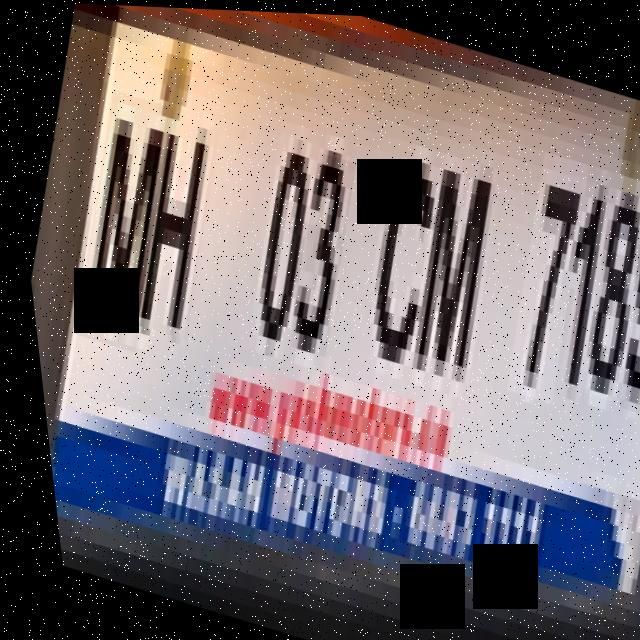0: (220, 127, 335, 358)
1: (527, 183, 625, 404)
3: (264, 148, 369, 356)
7: (477, 144, 607, 401)
8: (557, 180, 640, 398)
9: (592, 188, 640, 412)
C: (335, 134, 460, 368)
H: (112, 115, 235, 340)
M: (45, 86, 193, 354), (385, 147, 517, 379)
